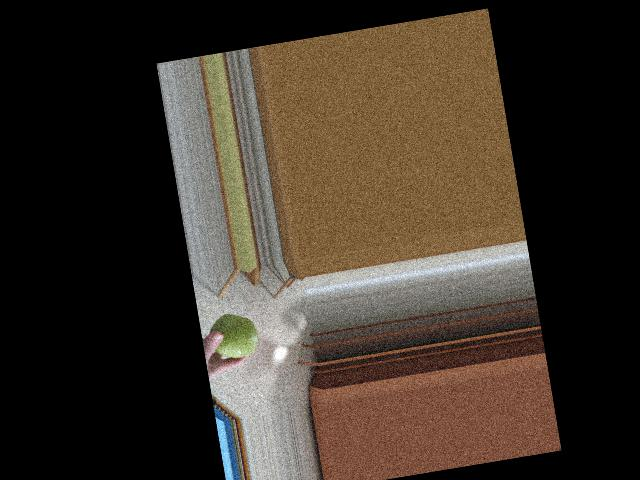apple: (205, 306, 263, 364)
